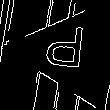P_S: (47, 26, 93, 79)
